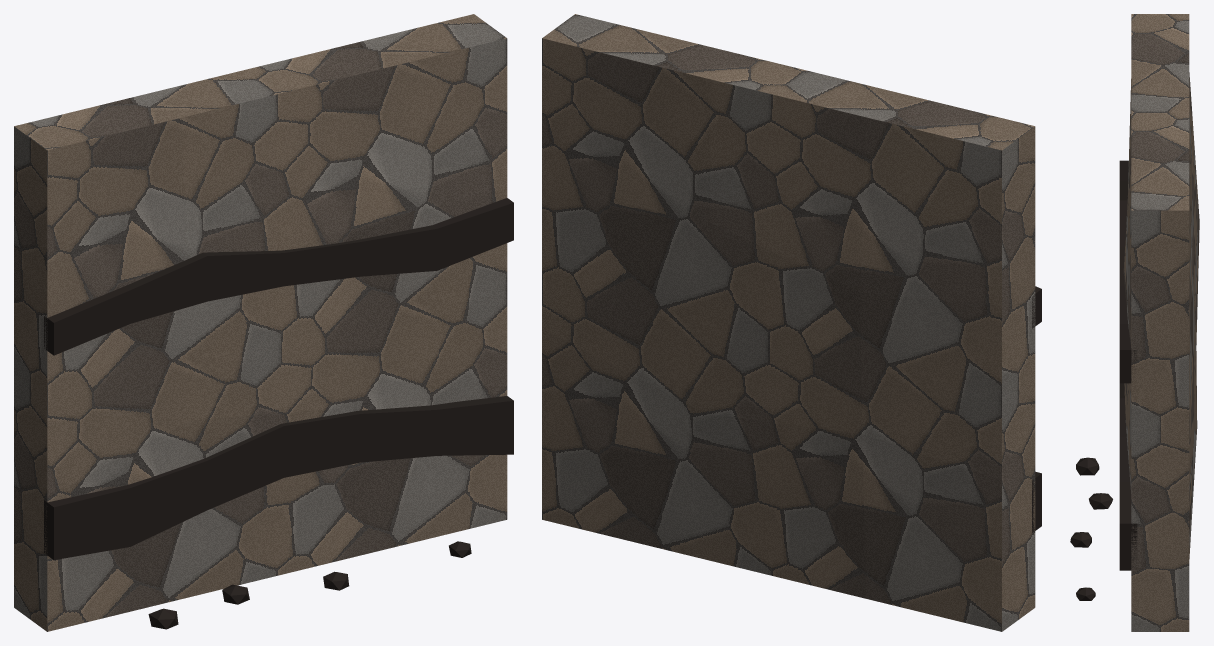
The model's file is mine_wall_coal_seam.glb.
3 renders of one model, left to right at view 1: azimuth 30°, elevation 25°; view 2: azimuth 150°, elevation 25°; view 3: azimuth 270°, elevation 25°, orthographic. The views are drawn at different scales.
Visible parts, largest first — view 1: mine_wall_coal_seam; view 2: mine_wall_coal_seam; view 3: mine_wall_coal_seam.
Part boxes in pixels (left/top/right/bottom): mine_wall_coal_seam: left=14, top=14, right=513, bottom=631; mine_wall_coal_seam: left=542, top=14, right=1041, bottom=631; mine_wall_coal_seam: left=1070, top=14, right=1199, bottom=631.
Bounding box in the file's own units: 4 × 4 × 1.11.
2 materials, 1 textured.
